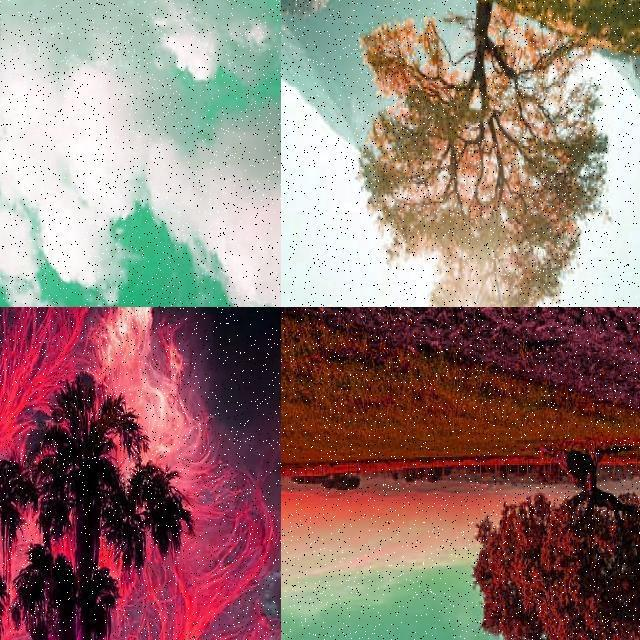tree: (348, 1, 612, 308), (0, 368, 148, 640), (475, 447, 640, 640), (0, 0, 24, 80)
